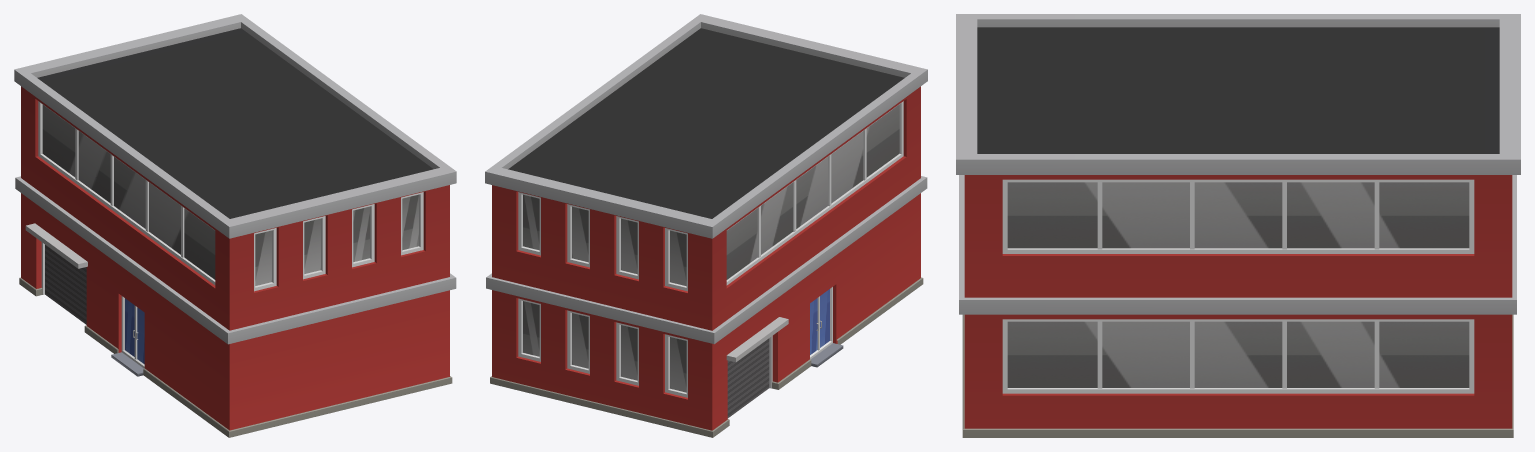
File: Building_Factory_3_A.fbx
3 renders of one model, left to right at view 1: azimuth 30°, elevation 25°; view 2: azimuth 150°, elevation 25°; view 3: azimuth 270°, elevation 25°, orthographic. The views are drawn at different scales.
Visible parts, largest first — view 1: Building_Factory_3_A; view 2: Building_Factory_3_A; view 3: Building_Factory_3_A.
Part boxes in pixels (box(x1,y1,x2,y2)): Building_Factory_3_A: box(14, 14, 456, 437); Building_Factory_3_A: box(485, 14, 927, 437); Building_Factory_3_A: box(956, 14, 1520, 437).
Bounding box in the file's own units: 901 × 785 × 1437.
